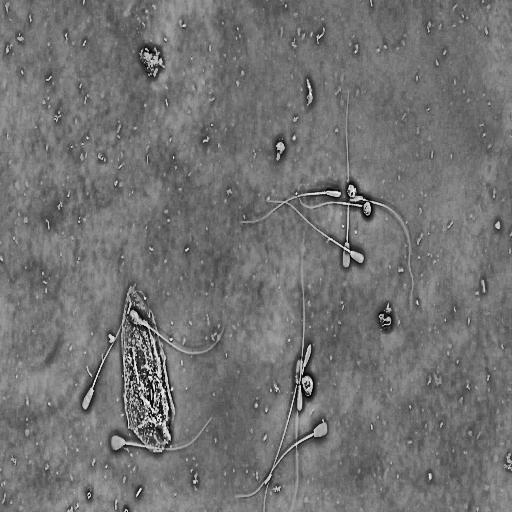dirt-particles: (117, 280, 175, 463), (137, 41, 166, 79), (376, 301, 394, 331), (303, 78, 317, 108), (275, 138, 287, 164), (302, 376, 315, 397), (362, 200, 373, 218), (346, 183, 357, 200)
normal: (79, 289, 151, 414), (233, 420, 329, 499), (265, 197, 366, 264), (263, 357, 305, 512), (236, 184, 343, 230), (109, 415, 214, 453), (290, 343, 312, 512), (296, 227, 307, 413), (341, 88, 351, 271)
